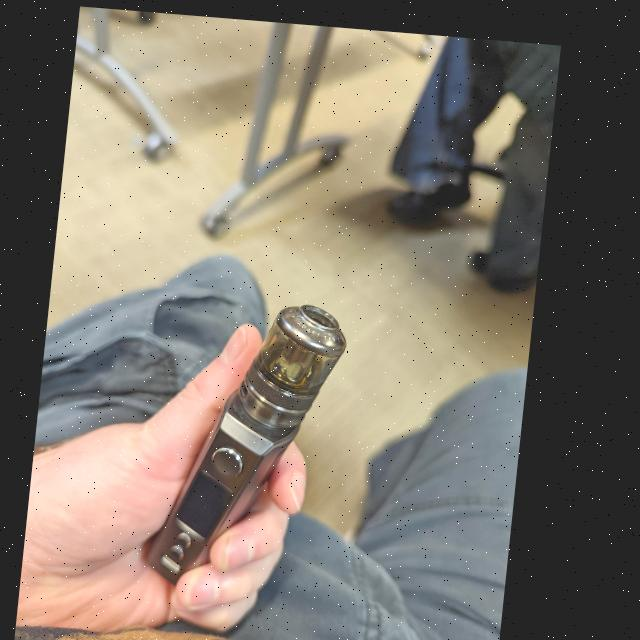vape: (155, 290, 356, 591)
